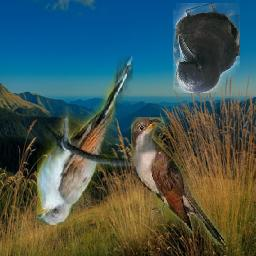Crow: (174, 3, 241, 93)
Cuckoo: (37, 57, 133, 226), (132, 117, 227, 245)
